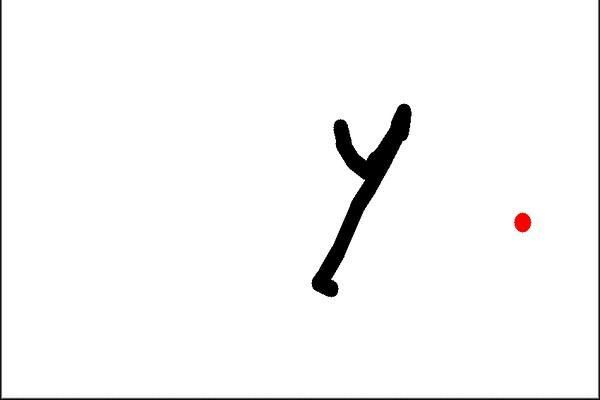Y: (285, 95, 449, 317)
